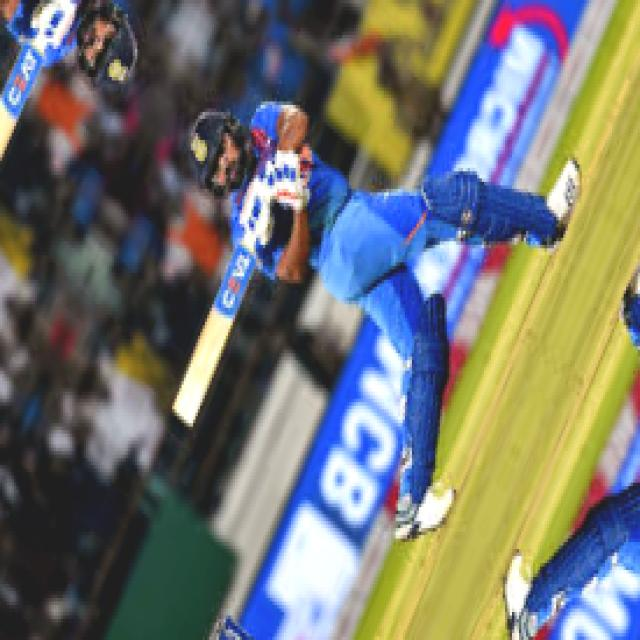toe: (168, 391, 198, 430)
